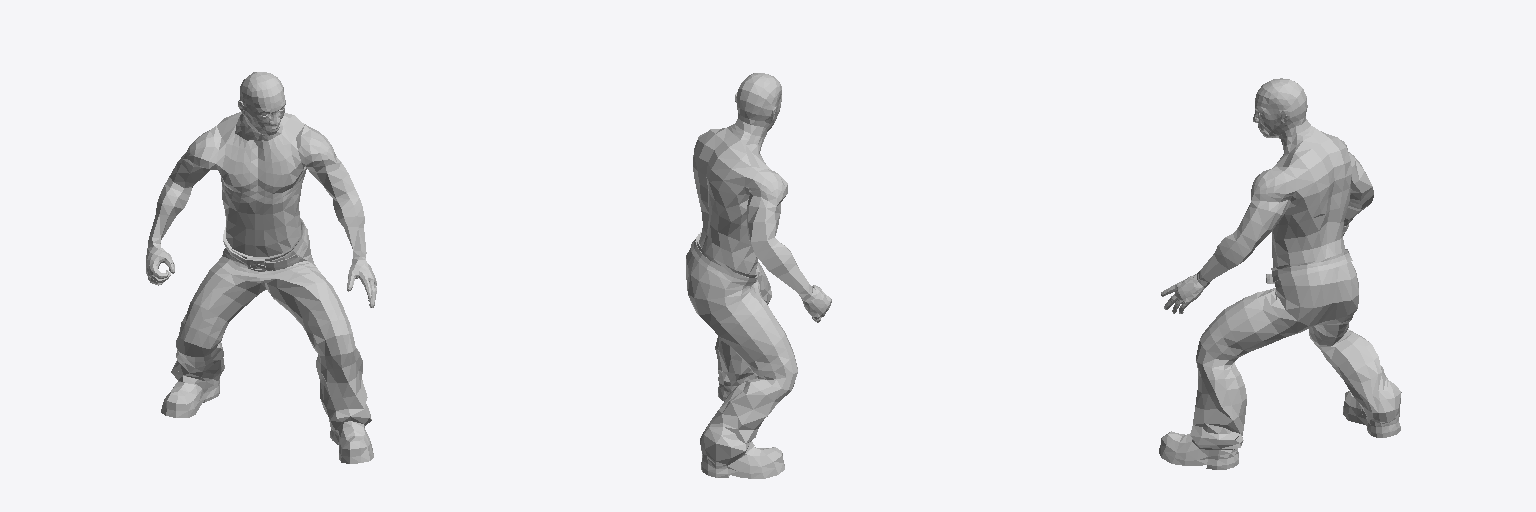
3 views of the same model, side by side, from view 1: azimuth 30°, elevation 25°; view 2: azimuth 150°, elevation 25°; view 3: azimuth 270°, elevation 25° (orthographic).
Parts seen in each view (by area): view 1: Thug; view 2: Thug; view 3: Thug.
Part boxes in pixels (x1,y1,x2,y2): Thug: (146,72,376,463); Thug: (686,73,831,478); Thug: (1159,78,1401,469).
Bounding box in the file's own units: 80.28 × 162 × 99.8.